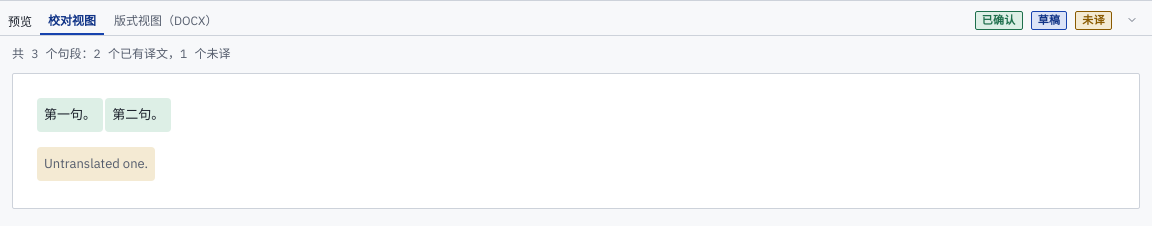
Test: PreviewPane › shows an honest error when the export pipeline refuses
Click the tab "版式视图（DOCX）": (166, 20) [106,5,225,35]
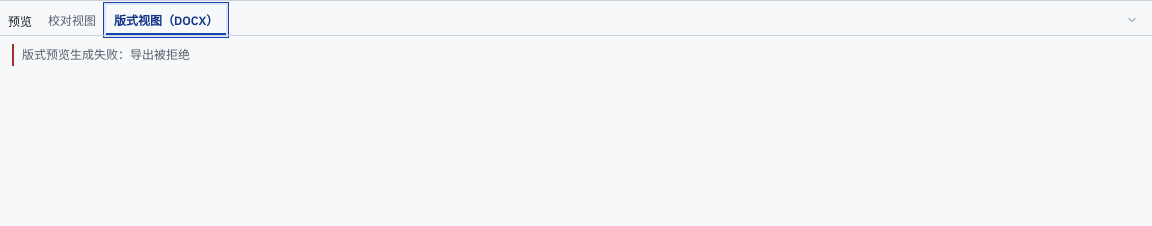
Expected: the message reads "版式预览生成失败：导出被拒绝", [12,44,1140,66]
